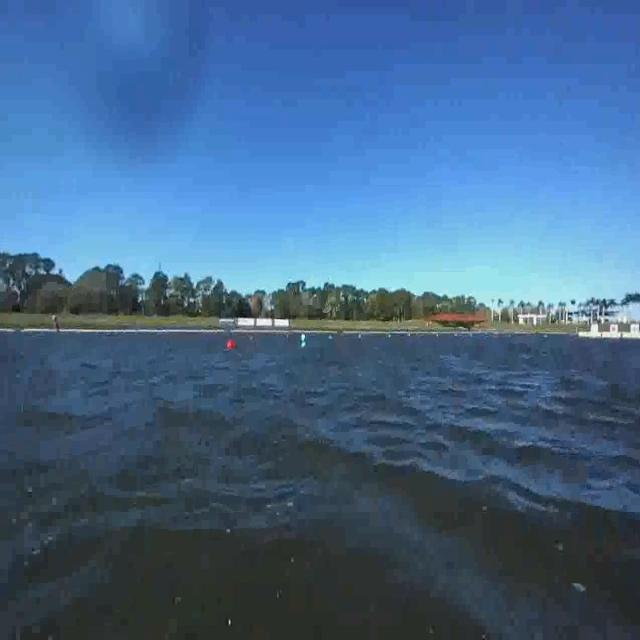red-buoy: (227, 340, 235, 352)
